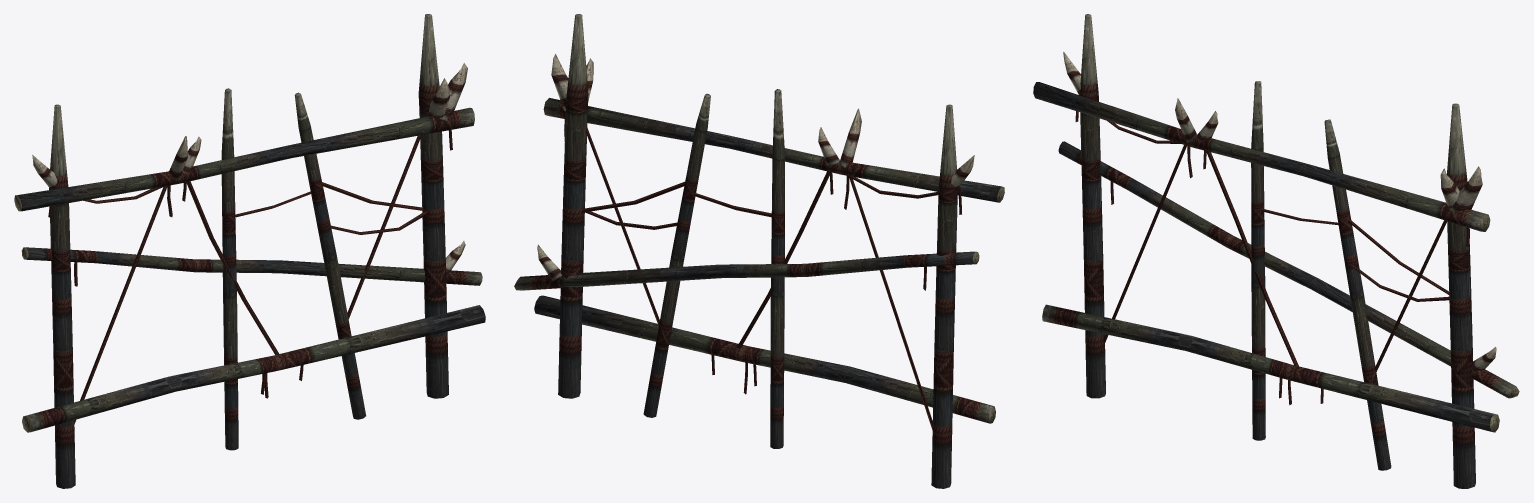
File: camp_redthief_fence_00.fbx
The picture shows the model from 3 angles, left to right: view 1: azimuth 30°, elevation 25°; view 2: azimuth 150°, elevation 25°; view 3: azimuth 330°, elevation 25°; orthographic projection.
Parts seen in each view (by area): view 1: camp_redthief_build_08; view 2: camp_redthief_build_08; view 3: camp_redthief_build_08.
Part boxes in pixels (x1,y1,x2,y2): camp_redthief_build_08: (14, 14, 485, 488); camp_redthief_build_08: (514, 14, 1004, 488); camp_redthief_build_08: (1033, 14, 1519, 488).
Size of the model in its own units: 15.86 by 12.26 by 1.49.
